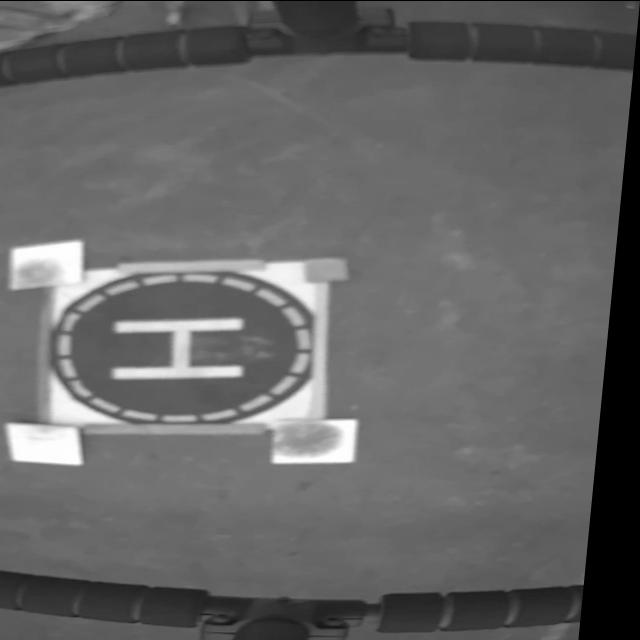Helipad: (119, 316, 252, 379)
